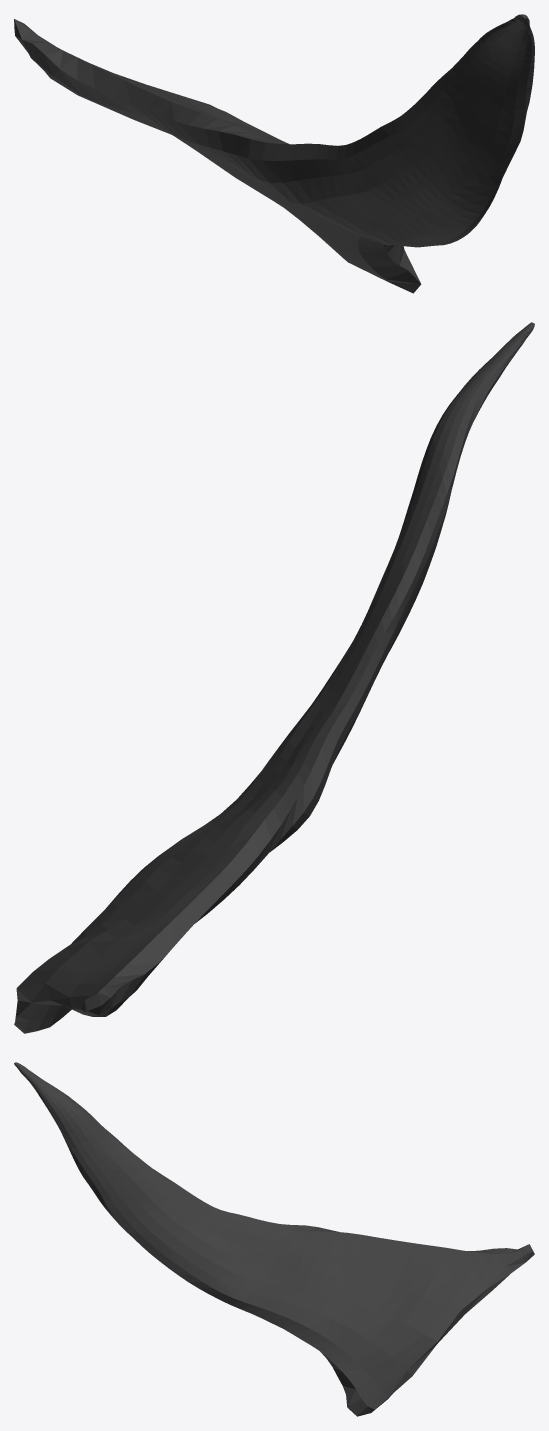
Rendered from Rhomboideus.glb.
3 renders of one model, top to bottom at view 1: azimuth 30°, elevation 25°; view 2: azimuth 150°, elevation 25°; view 3: azimuth 270°, elevation 25°, orthographic. The views are drawn at different scales.
Parts seen in each view (by area): view 1: Rhomboideus; view 2: Rhomboideus; view 3: Rhomboideus.
Boxes of the visible parts, <box> form: Rhomboideus: <box>14,14,534,293</box>; Rhomboideus: <box>14,322,534,1033</box>; Rhomboideus: <box>14,1062,534,1416</box>.
Size of the model in its own units: 0.3618 by 0.8178 by 1.29.
Materials: 1 (1 with a texture image).
